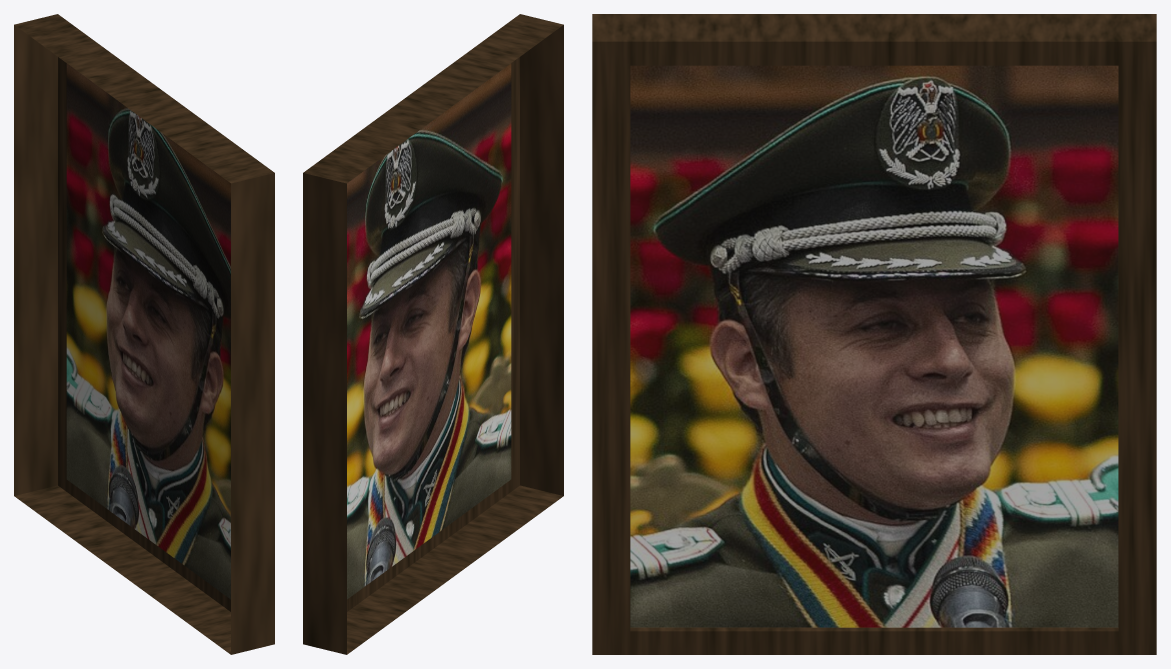
File: CUadroEdman.fbx
3 renders of one model, left to right at view 1: azimuth 30°, elevation 25°; view 2: azimuth 150°, elevation 25°; view 3: azimuth 270°, elevation 25°, orthographic. The views are drawn at different scales.
Parts seen in each view (by area): view 1: Cube.001; view 2: Cube.001; view 3: Cube.001.
Boxes of the visible parts, box(x1,y1,x2,y2) form: Cube.001: box(14, 14, 274, 654); Cube.001: box(303, 14, 563, 654); Cube.001: box(592, 14, 1156, 654).
Size of the model in its own units: 17.25 by 177 by 148.
1 material, 1 textured.
